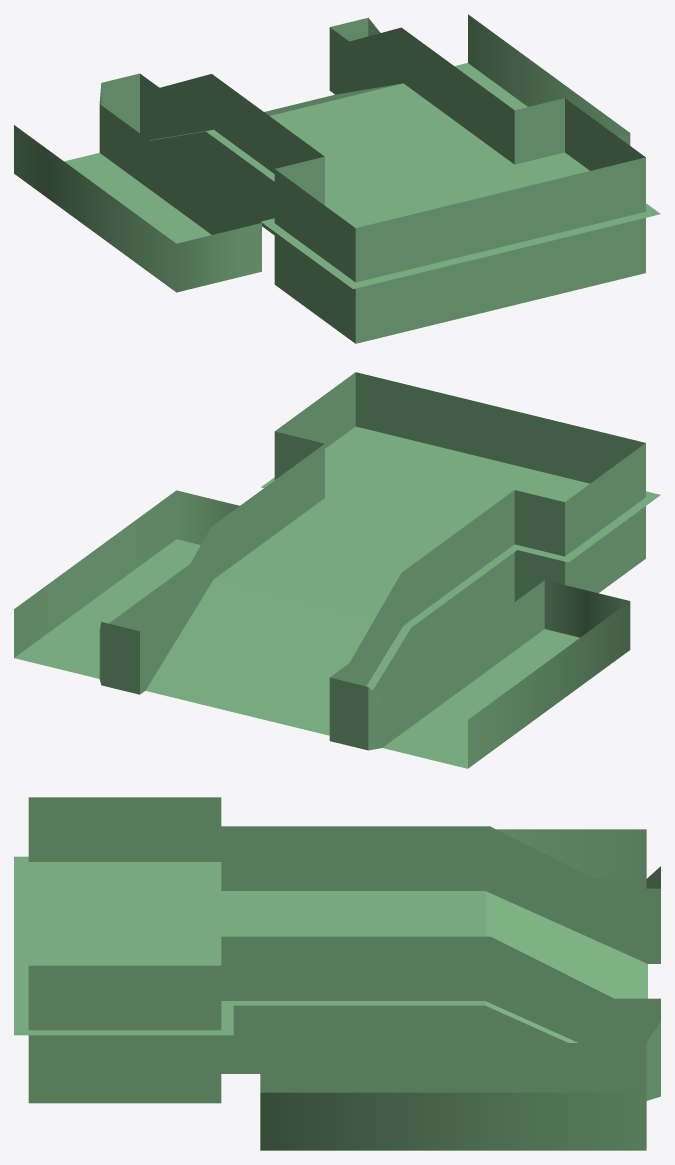
The model's file is Hallway_Portal_16_A_COL.fbx.
3 views of the same model, one above another, from view 1: azimuth 30°, elevation 25°; view 2: azimuth 150°, elevation 25°; view 3: azimuth 270°, elevation 25° (orthographic). The views are drawn at different scales.
Parts seen in each view (by area): view 1: Hallway_Portal_16_A_COL; view 2: Hallway_Portal_16_A_COL; view 3: Hallway_Portal_16_A_COL.
Part boxes in pixels (left/top/right/bottom): Hallway_Portal_16_A_COL: left=14, top=14, right=660, bottom=343; Hallway_Portal_16_A_COL: left=14, top=372, right=660, bottom=768; Hallway_Portal_16_A_COL: left=14, top=797, right=660, bottom=1150.
Bounding box in the file's own units: 1548 × 377 × 1608.
